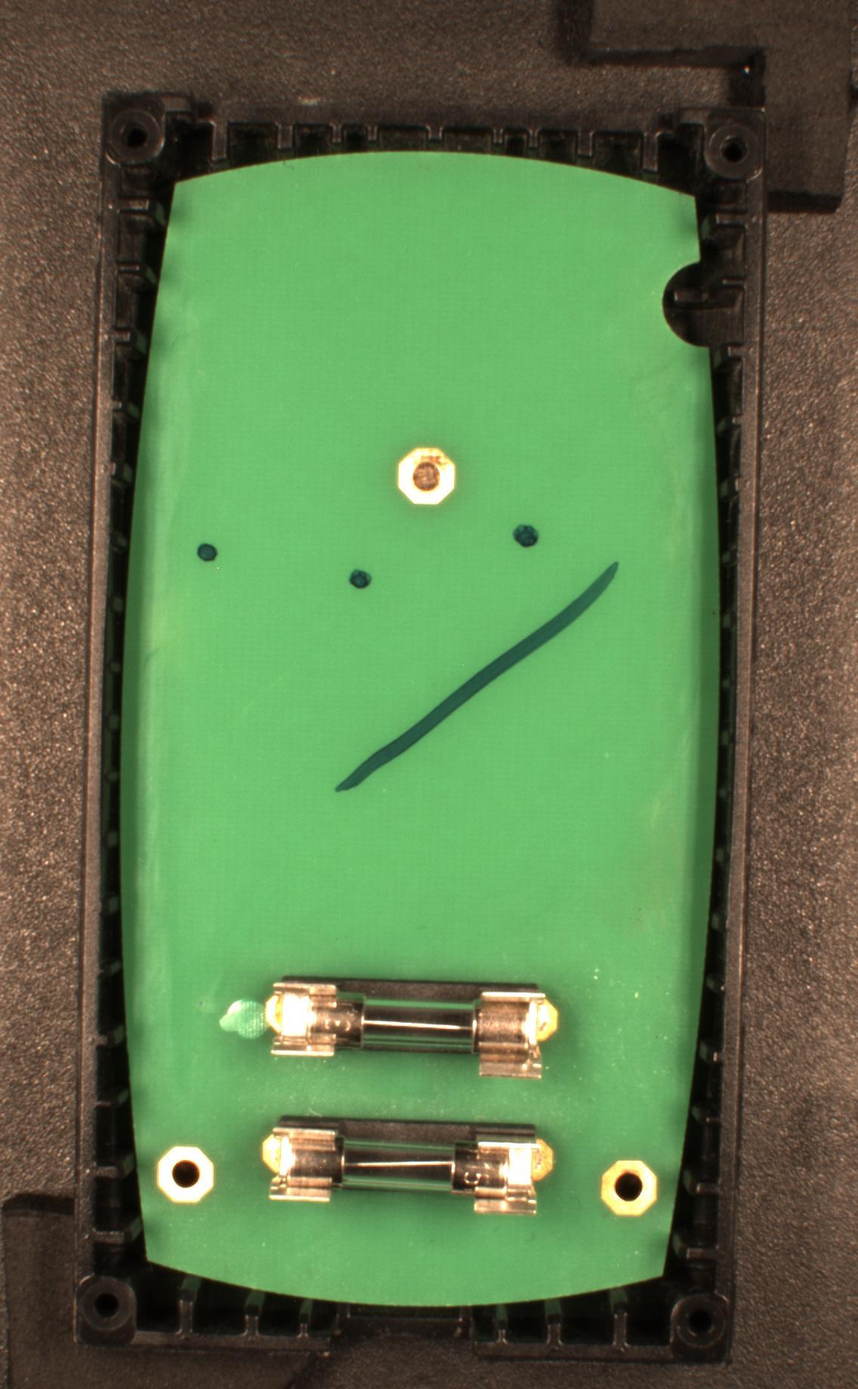Linijsko Ostecene: (331, 559, 623, 797)
Tockasto Ostecenje: (513, 523, 540, 548), (347, 567, 372, 589), (195, 542, 219, 562)
